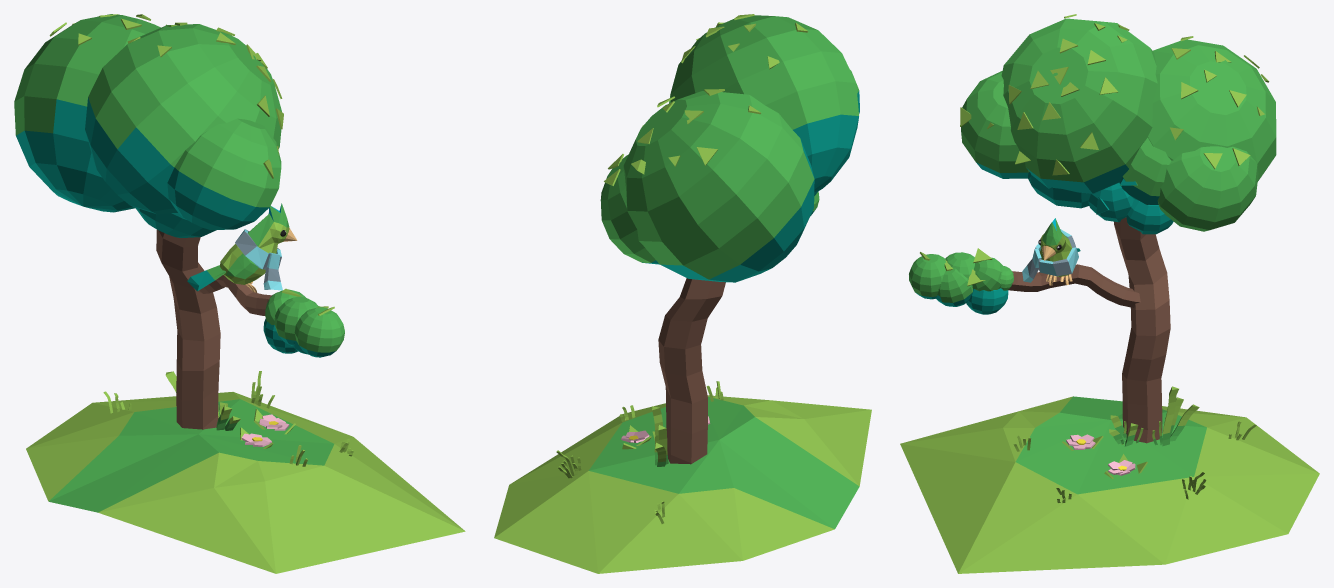
File: arbol.glb
The picture shows the model from 3 angles, left to right: view 1: azimuth 30°, elevation 25°; view 2: azimuth 150°, elevation 25°; view 3: azimuth 270°, elevation 25°; orthographic projection. The views are drawn at different scales.
Parts seen in each view (by area): view 1: group64211584, group1157142833, group528470332, group190277160, group2105024497, group1647726754, group1554323070, group1549016556, group1527962507, group1360399134, group1386102866, group943647440; view 2: group64211584, group528470332, group1157142833, group2105024497, group451383789; view 3: group64211584, group1157142833, group528470332, group2105024497, group451383789, group190277160, group1360399134, group1731610387, group1647726754, group1413742250, group1745413689, group468620073 (+5 smaller).
Part boxes in pixels (bbox=[...]): group64211584: bbox=[26, 392, 465, 573]; group1157142833: bbox=[85, 24, 281, 214]; group528470332: bbox=[14, 14, 160, 212]; group190277160: bbox=[167, 118, 281, 229]; group2105024497: bbox=[156, 229, 220, 429]; group1647726754: bbox=[294, 307, 344, 357]; group1554323070: bbox=[248, 203, 289, 253]; group1549016556: bbox=[135, 208, 216, 237]; group1527962507: bbox=[274, 296, 317, 345]; group1360399134: bbox=[198, 270, 271, 315]; group1386102866: bbox=[220, 244, 265, 284]; group943647440: bbox=[235, 229, 281, 269]; group64211584: bbox=[494, 395, 871, 573]; group528470332: bbox=[623, 91, 814, 282]; group1157142833: bbox=[669, 15, 858, 193]; group2105024497: bbox=[658, 278, 725, 464]; group451383789: bbox=[600, 154, 659, 264]; group64211584: bbox=[900, 396, 1319, 573]; group1157142833: bbox=[1001, 18, 1157, 193]; group528470332: bbox=[1147, 39, 1276, 181]; group2105024497: bbox=[1114, 217, 1170, 443]; group451383789: bbox=[1157, 146, 1258, 231]; group190277160: bbox=[961, 71, 1031, 178]; group1360399134: bbox=[1008, 264, 1140, 307]; group1731610387: bbox=[1119, 137, 1171, 204]; group1647726754: bbox=[909, 254, 945, 299]; group1413742250: bbox=[1126, 199, 1173, 234]; group1745413689: bbox=[1088, 183, 1133, 222]; group468620073: bbox=[936, 268, 972, 306].
Bounding box in the file's own units: 1.02 × 1.54 × 1.28.
